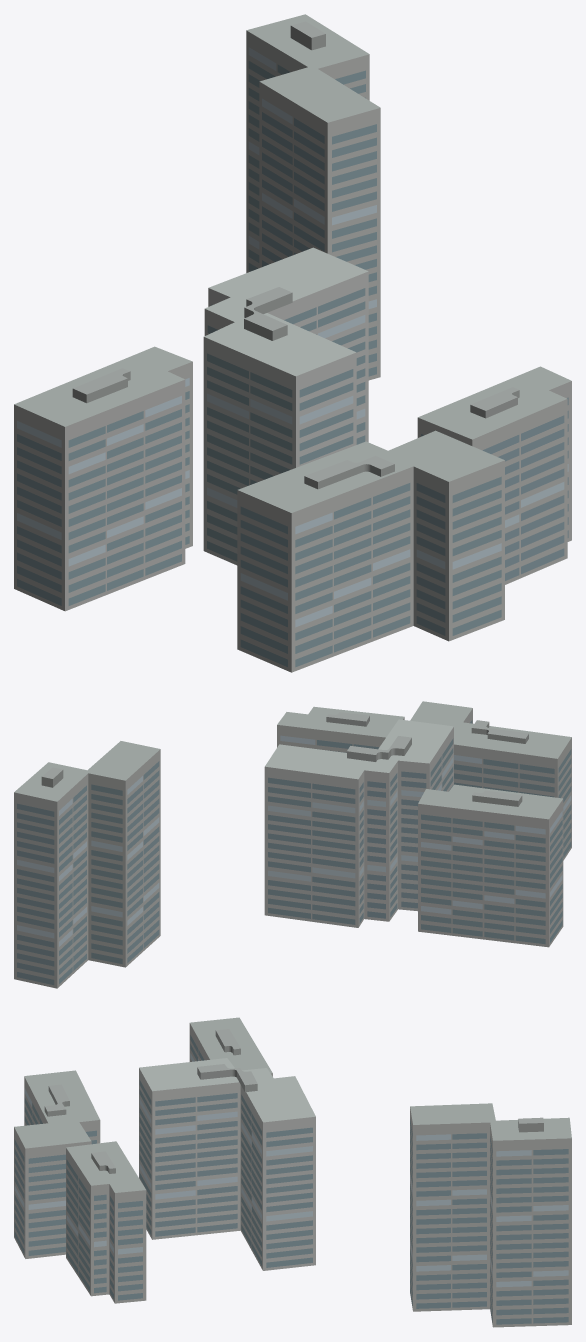
Rendered from apt-a13613010.glb.
3 views of the same model, one above another, from view 1: azimuth 30°, elevation 25°; view 2: azimuth 150°, elevation 25°; view 3: azimuth 270°, elevation 25° (orthographic). The views are drawn at different scales.
Parts seen in each view (by area): view 1: apt-a13613010; view 2: apt-a13613010; view 3: apt-a13613010.
Boxes of the visible parts, x1,y1,x2,y2 form: apt-a13613010: [14, 14, 571, 672]; apt-a13613010: [14, 701, 571, 988]; apt-a13613010: [14, 1017, 571, 1327].
Size of the model in its own units: 108 by 54 by 140.
